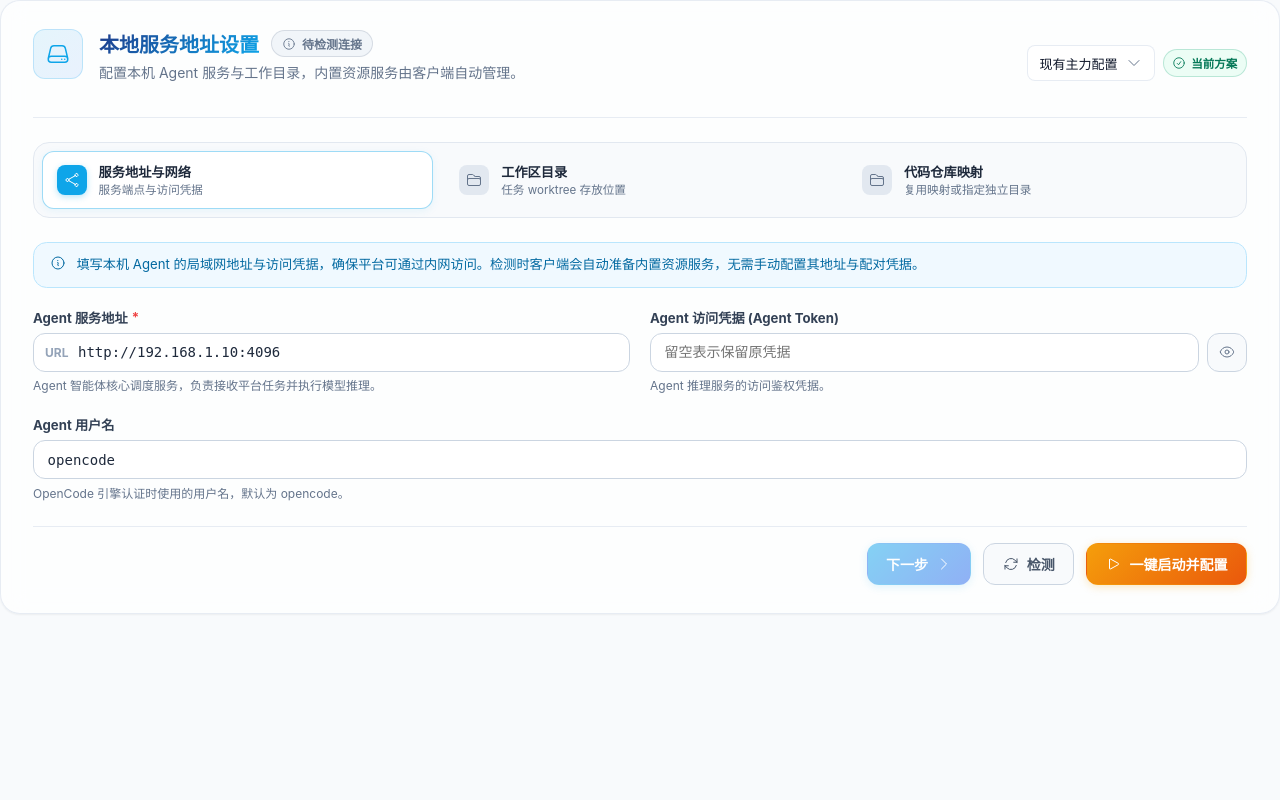
Scenario: LocalServiceForm Component (Scheme 2: Stepper Flow with BaseSelect) › starts services without a workspace directory or saving incomplete execution configuration
// Click start button
Click the button with class "btn-desktop-start" at {"x": 1167, "y": 564}, box [1086,543,1247,585]
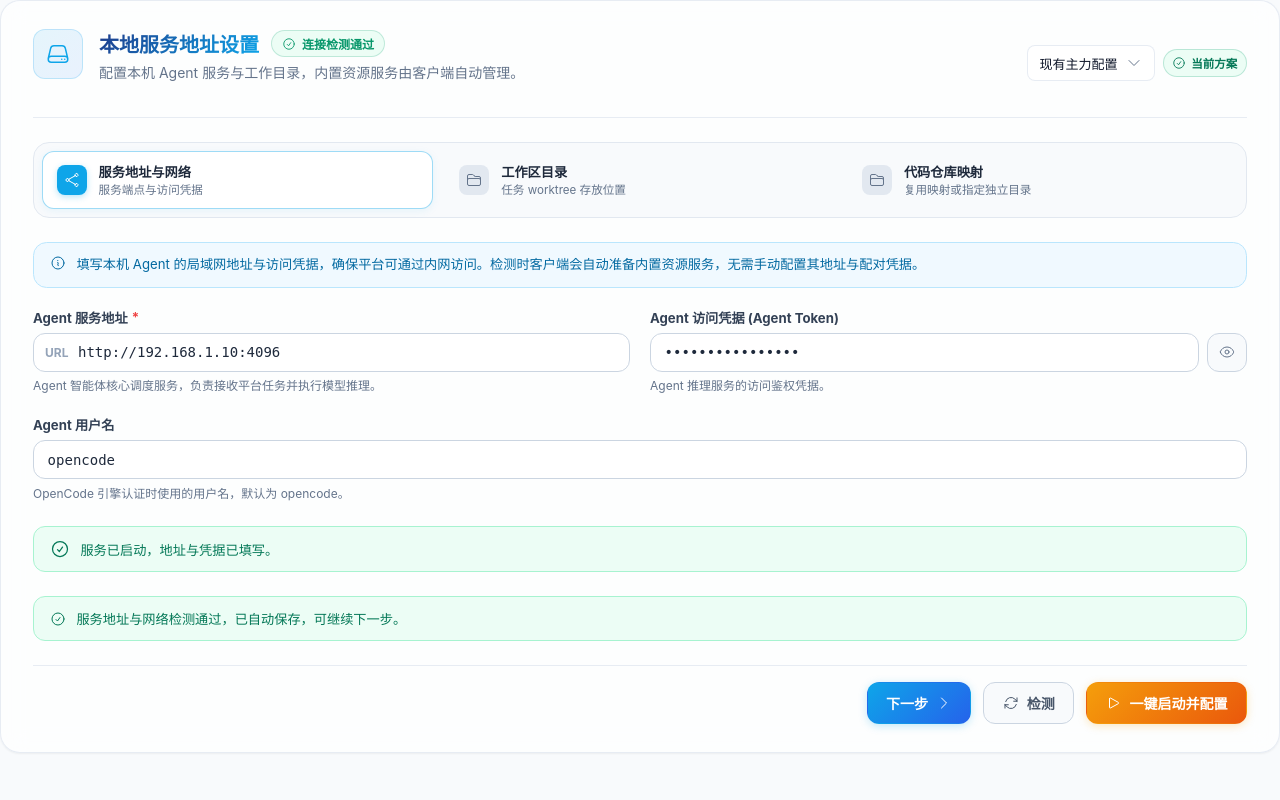
expect the field with id "service-url" holds "http://192.168.1.10:4096": met, box [33,333,630,372]
expect the text "服务已启动" is shown: met, box [80,542,278,558]
